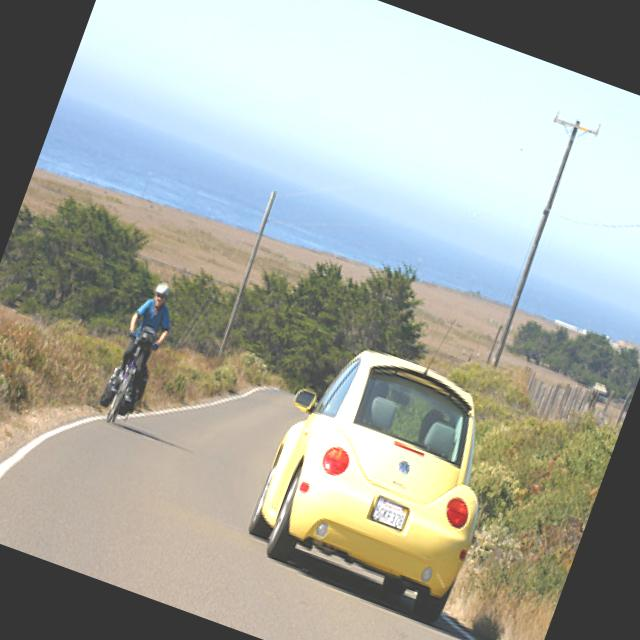Vehicle: (228, 321, 522, 621)
